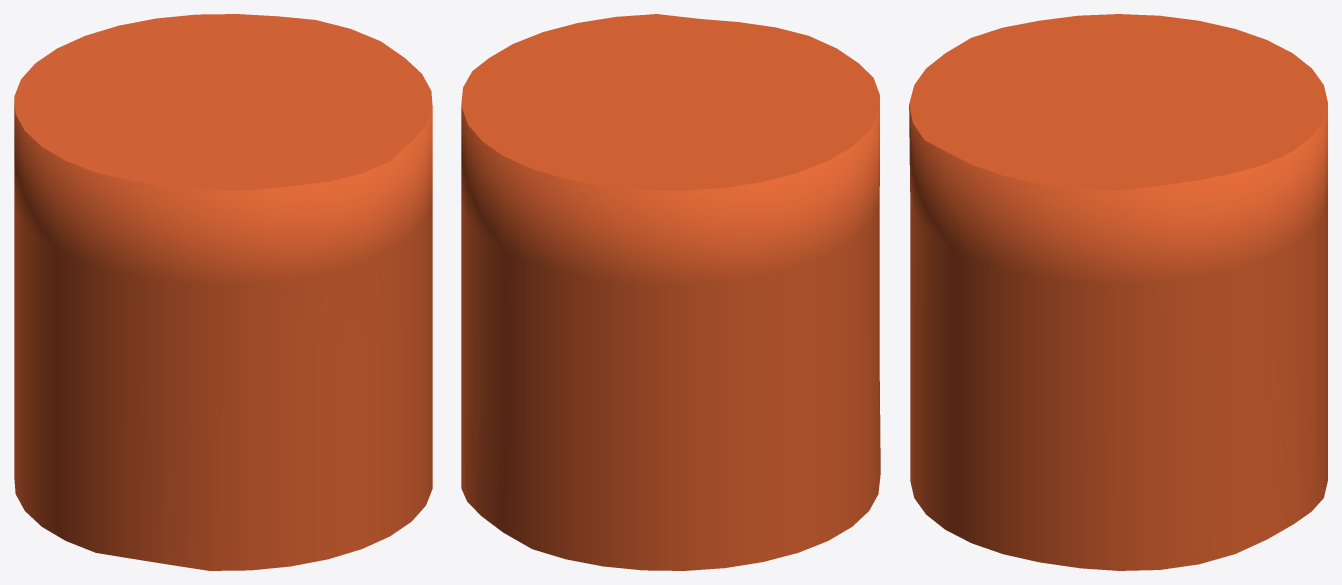
The model's file is SkyLantern4.fbx.
The picture shows the model from 3 angles, left to right: view 1: azimuth 30°, elevation 25°; view 2: azimuth 150°, elevation 25°; view 3: azimuth 270°, elevation 25°; orthographic projection.
Parts seen in each view (by area): view 1: Cylinder.001, Cylinder.002; view 2: Cylinder.001, Cylinder.002; view 3: Cylinder.001, Cylinder.002.
Boxes of the visible parts, x1,y1,x2,y2 form: Cylinder.001: (14, 14, 432, 570); Cylinder.002: (14, 14, 432, 570); Cylinder.001: (461, 14, 880, 570); Cylinder.002: (461, 14, 880, 570); Cylinder.001: (909, 14, 1327, 570); Cylinder.002: (909, 14, 1327, 570).
Size of the model in its own units: 200 by 203 by 201.
